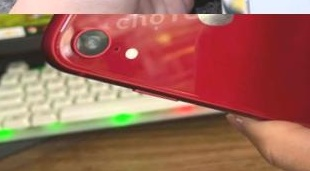scratch: (47, 36, 70, 65)
